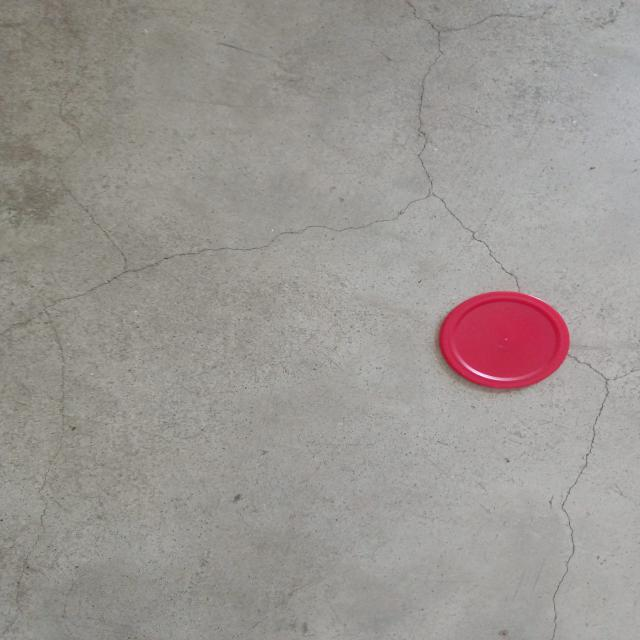chip: (434, 286, 572, 391)
